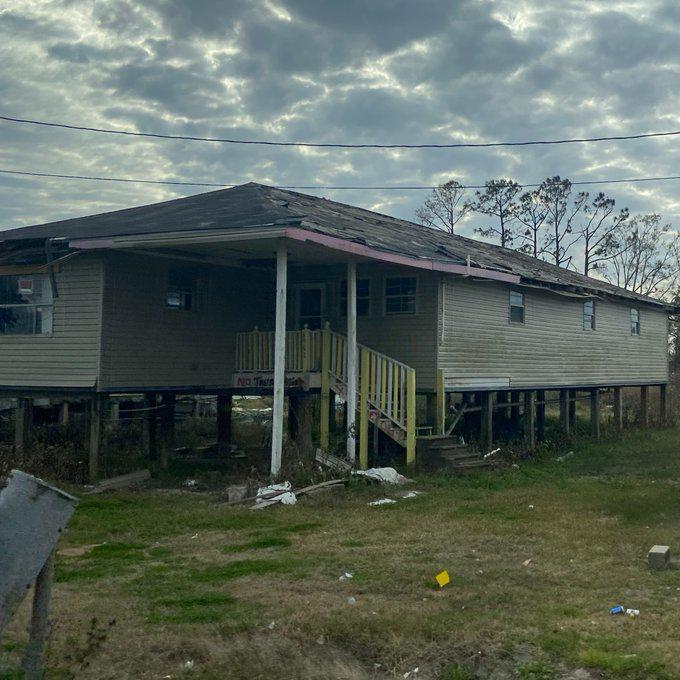minor: (0, 128, 680, 481)
